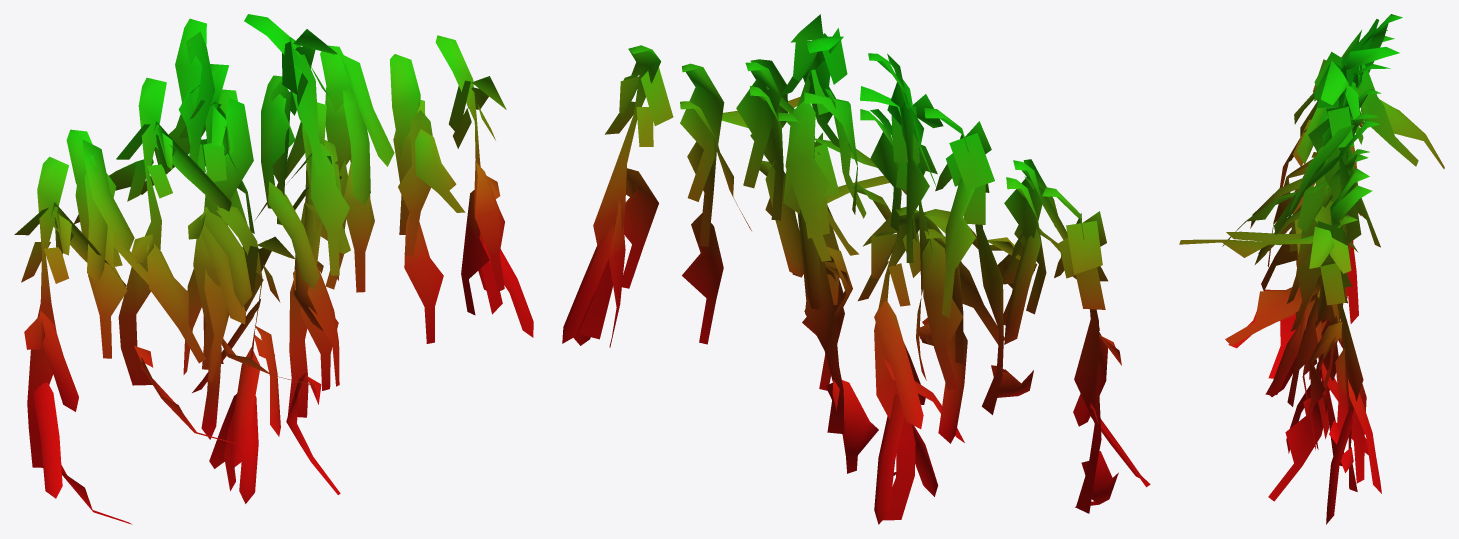
File: Var6_LOD5.fbx
3 views of the same model, side by side, from view 1: azimuth 30°, elevation 25°; view 2: azimuth 150°, elevation 25°; view 3: azimuth 270°, elevation 25° (orthographic). The views are drawn at different scales.
Parts seen in each view (by area): view 1: _hlhe_Var6_LOD5; view 2: _hlhe_Var6_LOD5; view 3: _hlhe_Var6_LOD5.
Boxes of the visible parts, box(x1,y1,x2,y2) form: _hlhe_Var6_LOD5: box(14, 14, 533, 524); _hlhe_Var6_LOD5: box(562, 14, 1150, 524); _hlhe_Var6_LOD5: box(1179, 14, 1444, 524).
Bounding box in the file's own units: 110 × 92.66 × 50.19.
